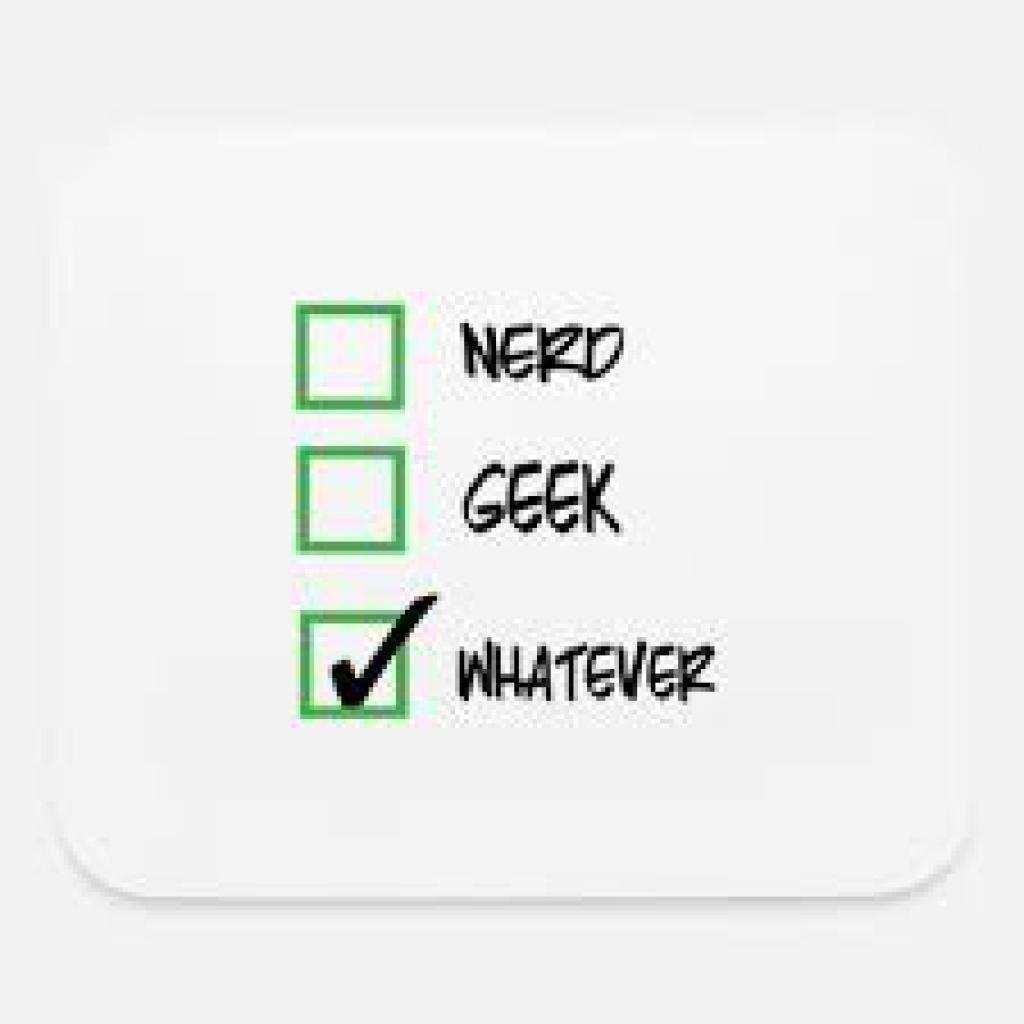checkbox: (300, 613, 414, 721), (295, 448, 408, 556), (297, 305, 406, 405)
